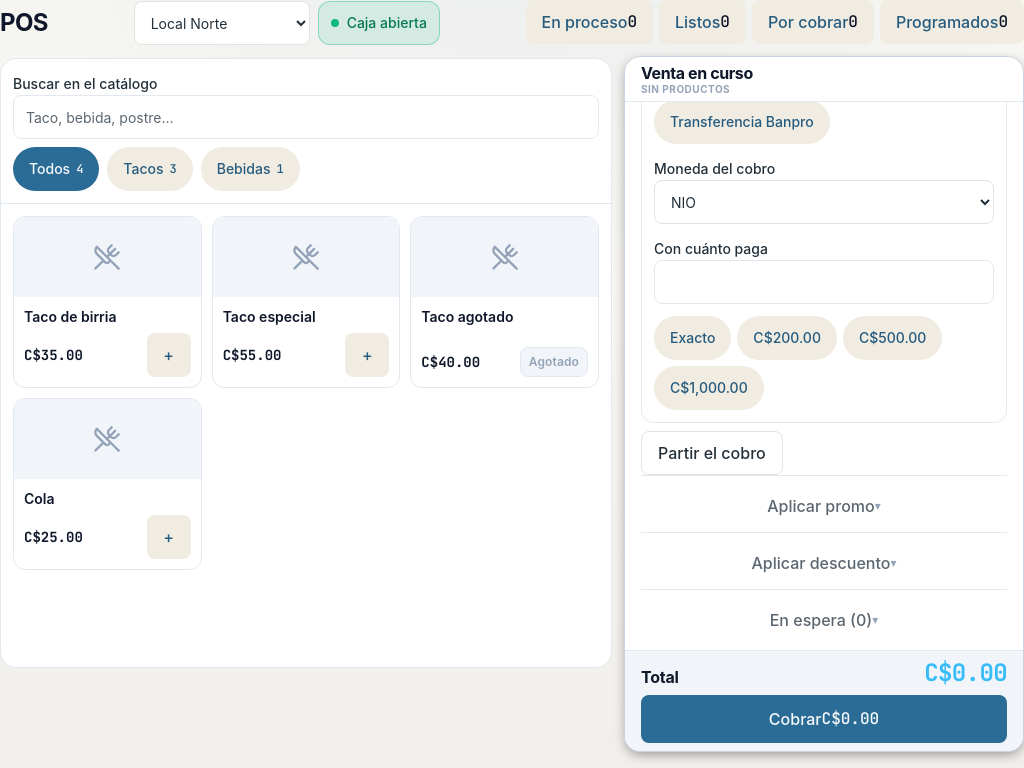
Test: PosClient › parte el cobro: agrega una fila con transferencia y su referencia (Bloque 4)
(page scrolled)
Expected: the text "Caja abierta" is shown, top-left (318, 1), bottom-right (440, 45)
Expected: the text "Taco de birria" is shown, top-left (24, 308), bottom-right (116, 325)
Click the button "Partir el cobro".
click(712, 453)  # box top-left (641, 431), bottom-right (783, 475)
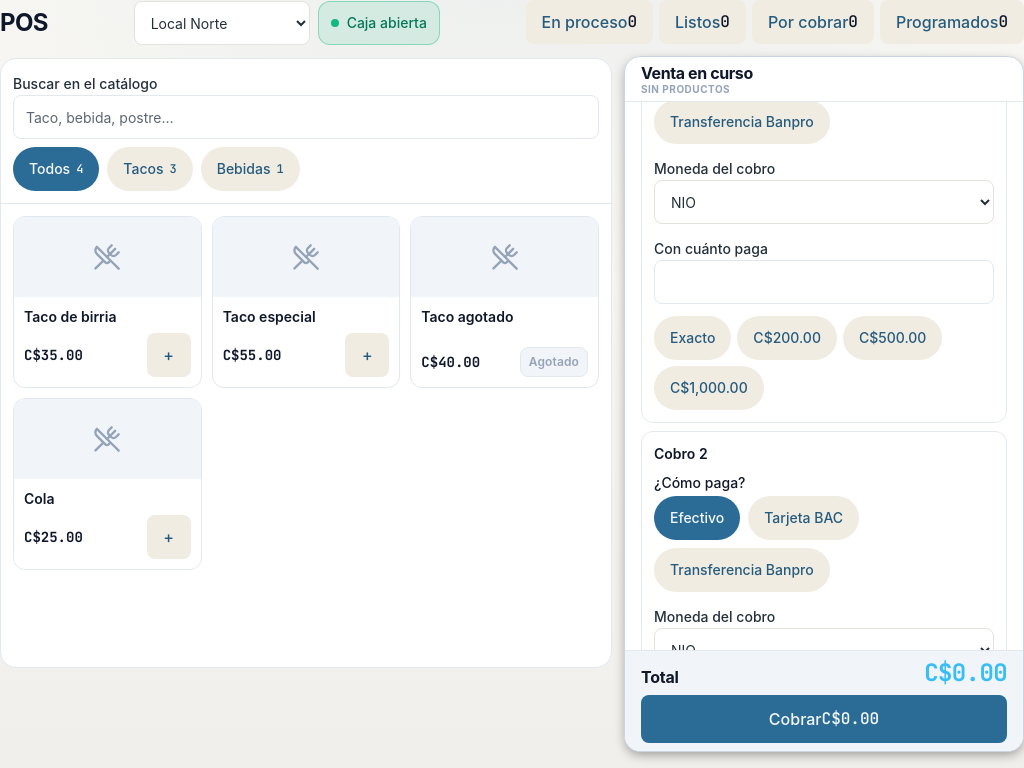
Click the button "Transferencia Banpro" below "¿Cómo paga?".
click(742, 570)  # box top-left (654, 548), bottom-right (830, 592)
(page scrolled)
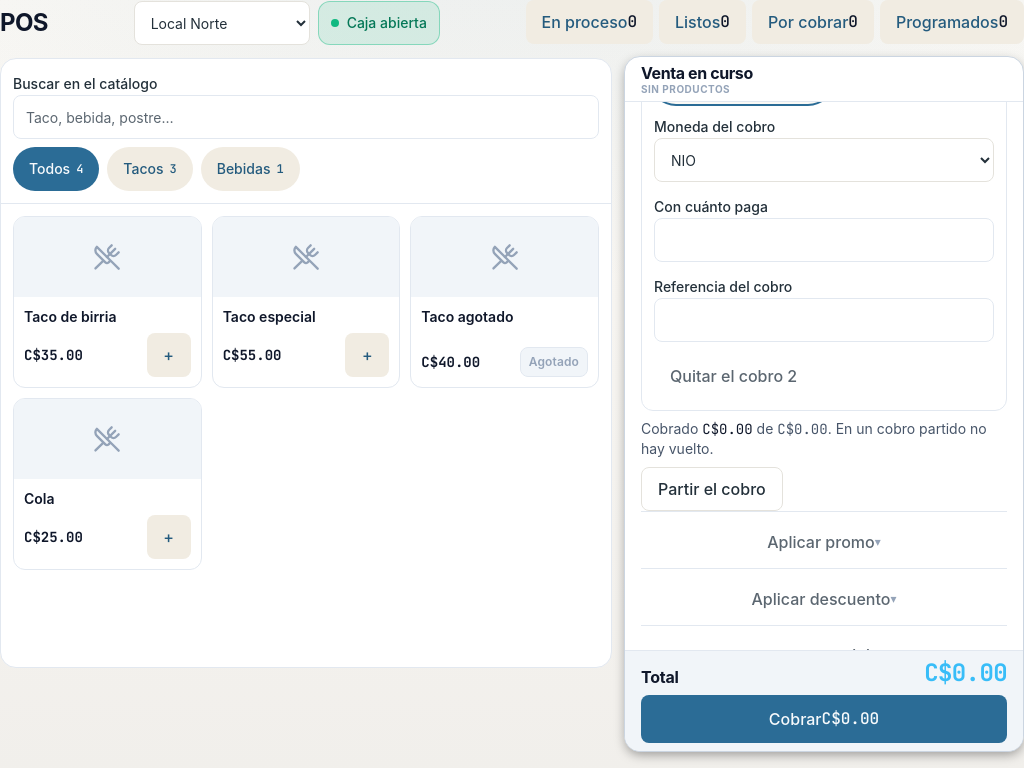
Now the field labelled "Referencia del cobro" is shown, box top-left (654, 298), bottom-right (994, 342)
Now the number of fields labelled "Con cuánto paga" is 2
Click the button "Quitar el cobro 2".
click(734, 376)  # box top-left (654, 354), bottom-right (813, 398)
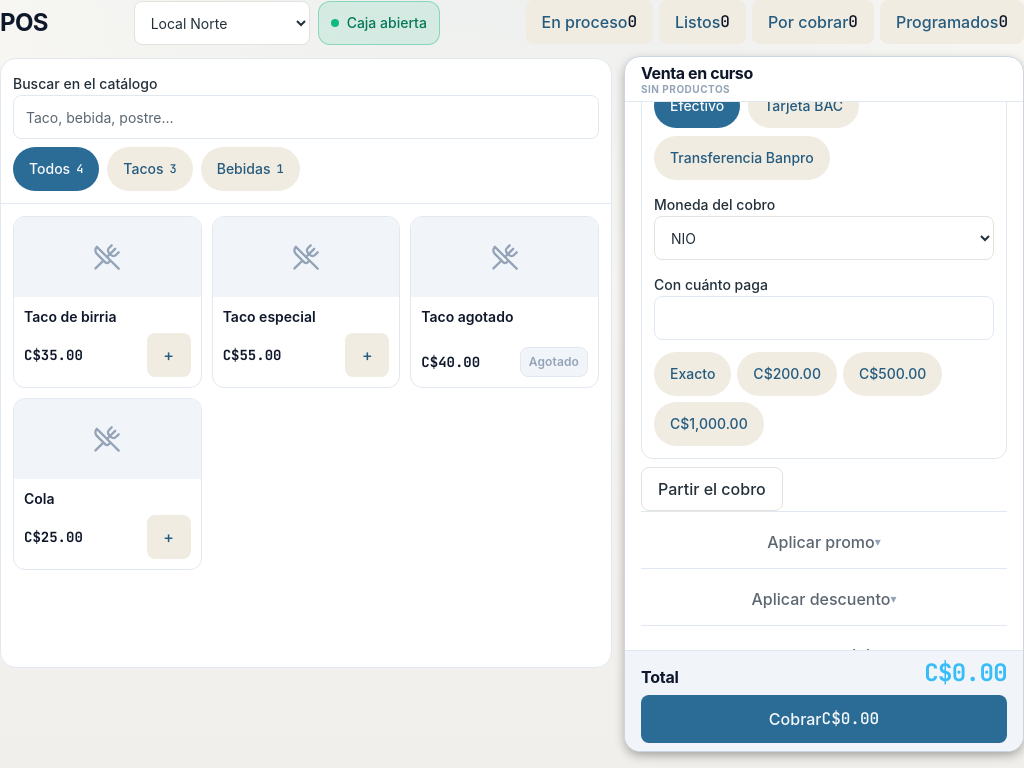
Now the label labelled "Referencia del cobro" is gone
Now the number of number fields labelled "Con cuánto paga" is 1, box top-left (654, 296), bottom-right (994, 340)
